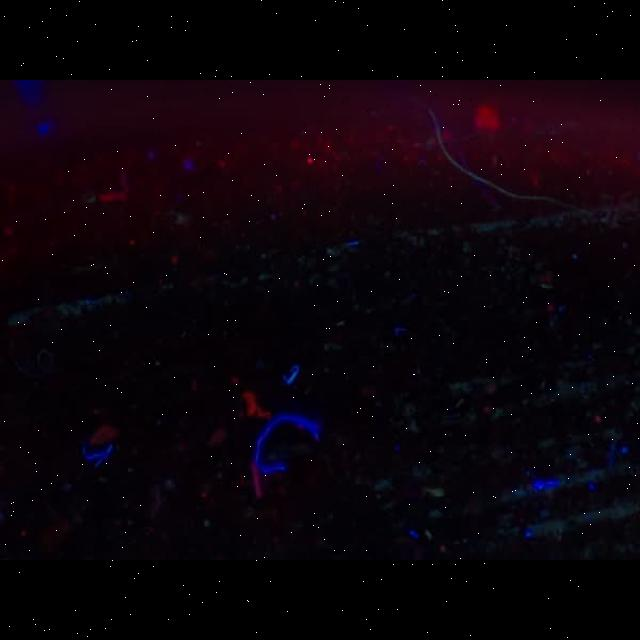Fragment: (242, 391, 271, 419)
